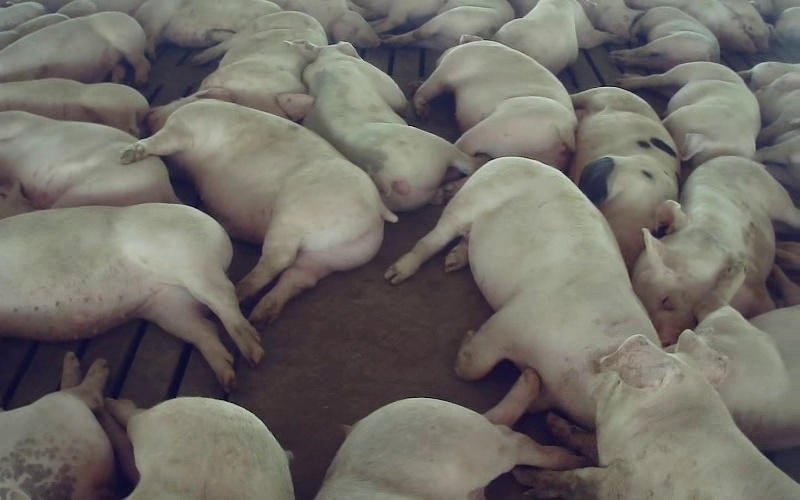pig: (385, 160, 658, 427), (122, 88, 396, 322), (514, 330, 799, 499), (316, 369, 580, 499), (289, 40, 475, 210), (414, 35, 576, 168), (570, 87, 679, 269), (99, 397, 293, 499), (694, 264, 799, 449), (0, 353, 114, 499), (618, 62, 760, 167), (194, 11, 326, 120), (0, 12, 149, 84), (493, 0, 615, 73), (134, 0, 280, 58), (611, 6, 719, 71), (384, 0, 514, 51)
